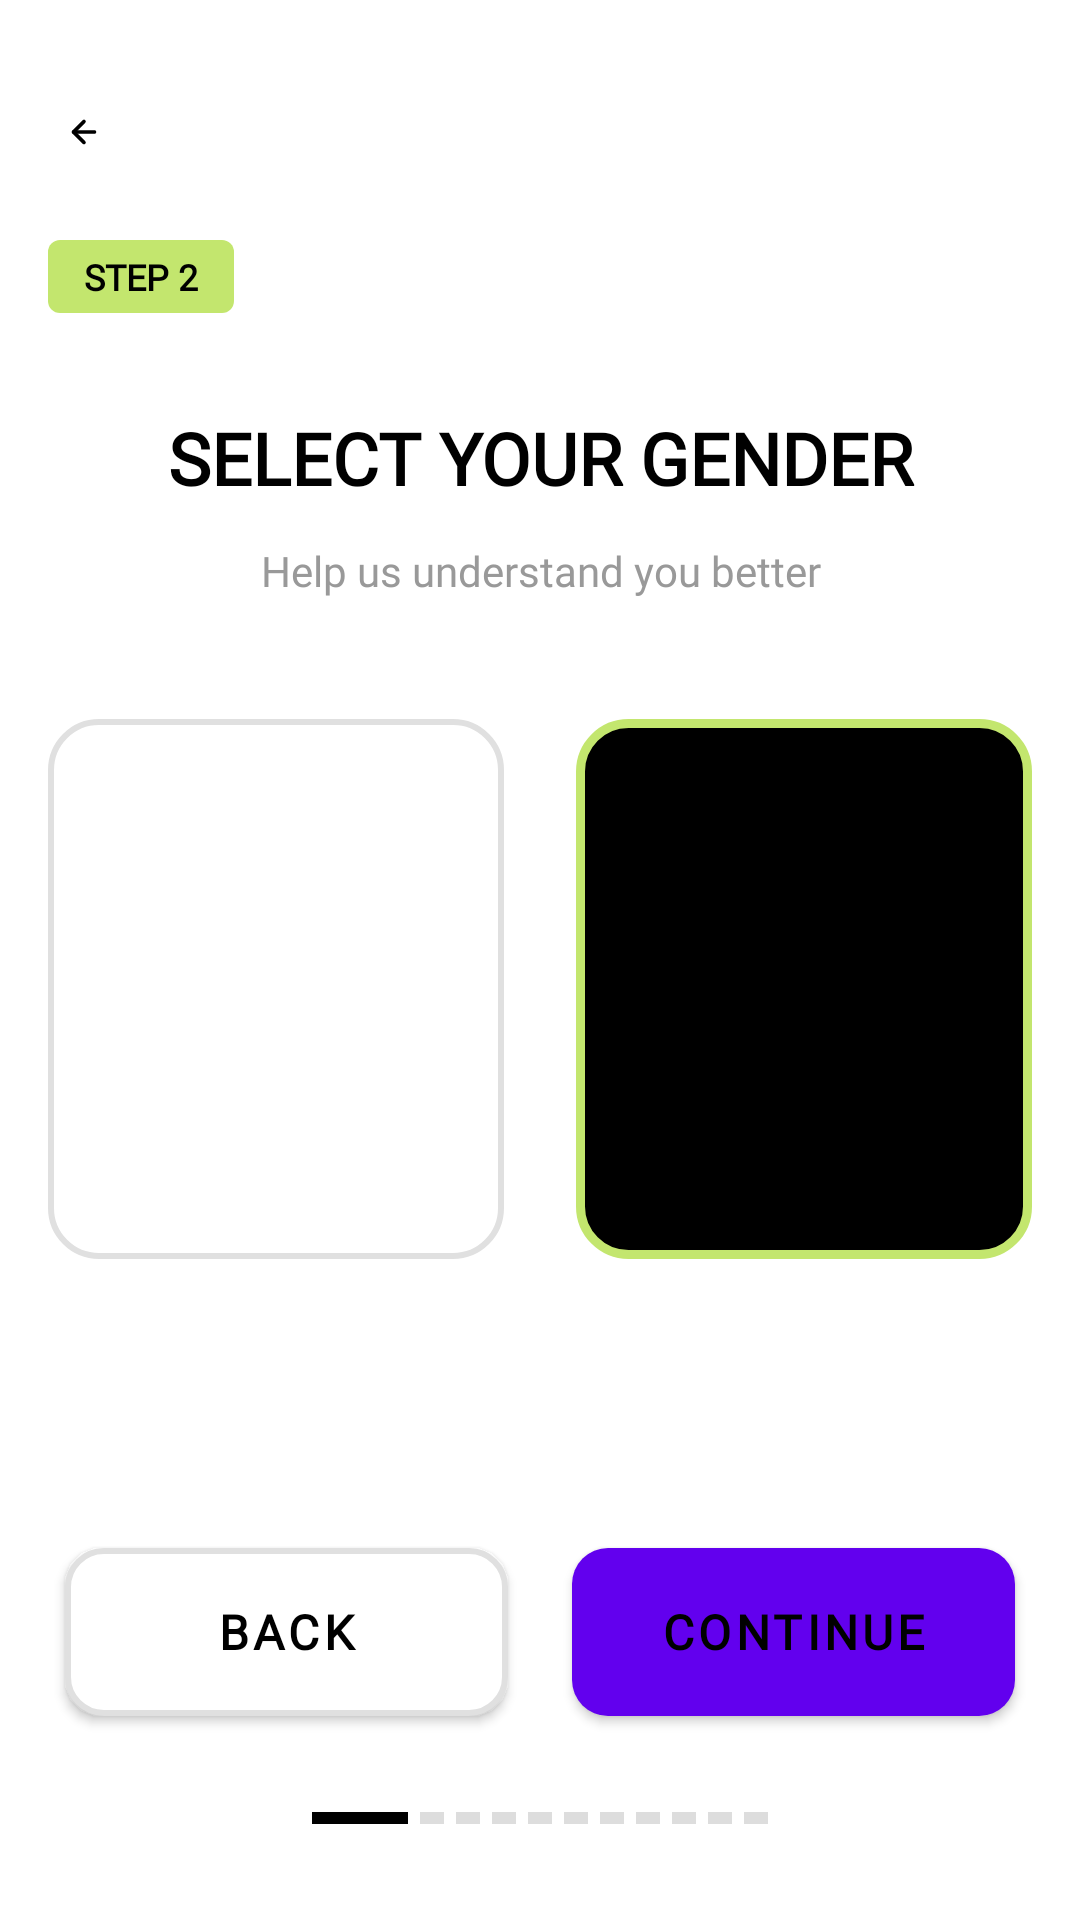

Icon bounding boxes for this 1080×1920 phone screenshot, format [x1, y1, x2, y2]:
Back: [71, 119, 97, 145]
